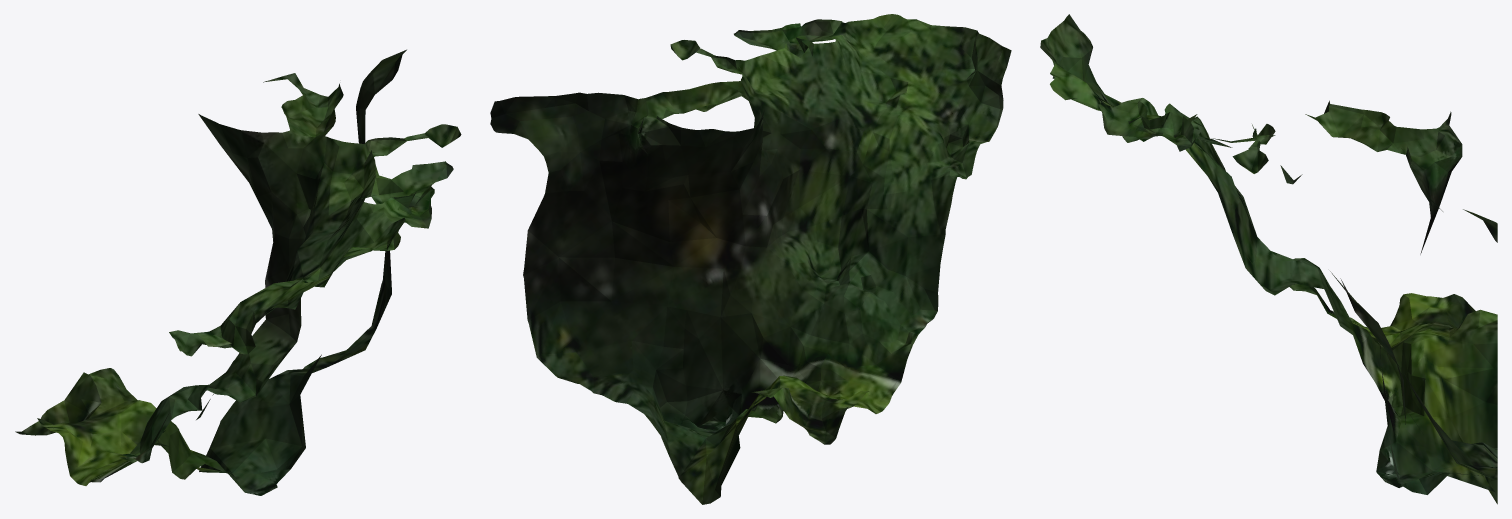
3 renders of one model, left to right at view 1: azimuth 30°, elevation 25°; view 2: azimuth 150°, elevation 25°; view 3: azimuth 270°, elevation 25°, orthographic. The views are drawn at different scales.
Size of the model in its own units: 0.8374 by 0.8307 by 0.8255.
3 materials, 3 textured.
